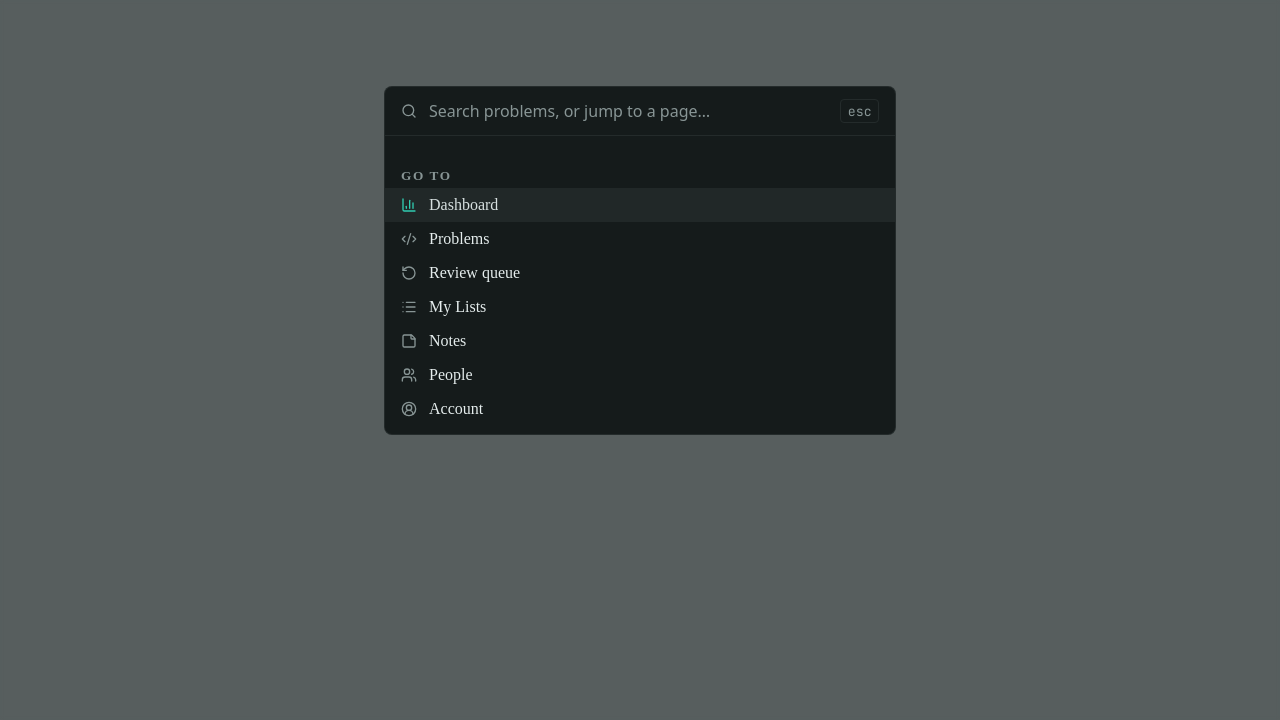
Test case: CommandPaletteDialog › matches problems on title substring
This screenshot has width=1280, height=720.
Type "islands" into the dropdown at [629, 111], box [429,100,828,122]
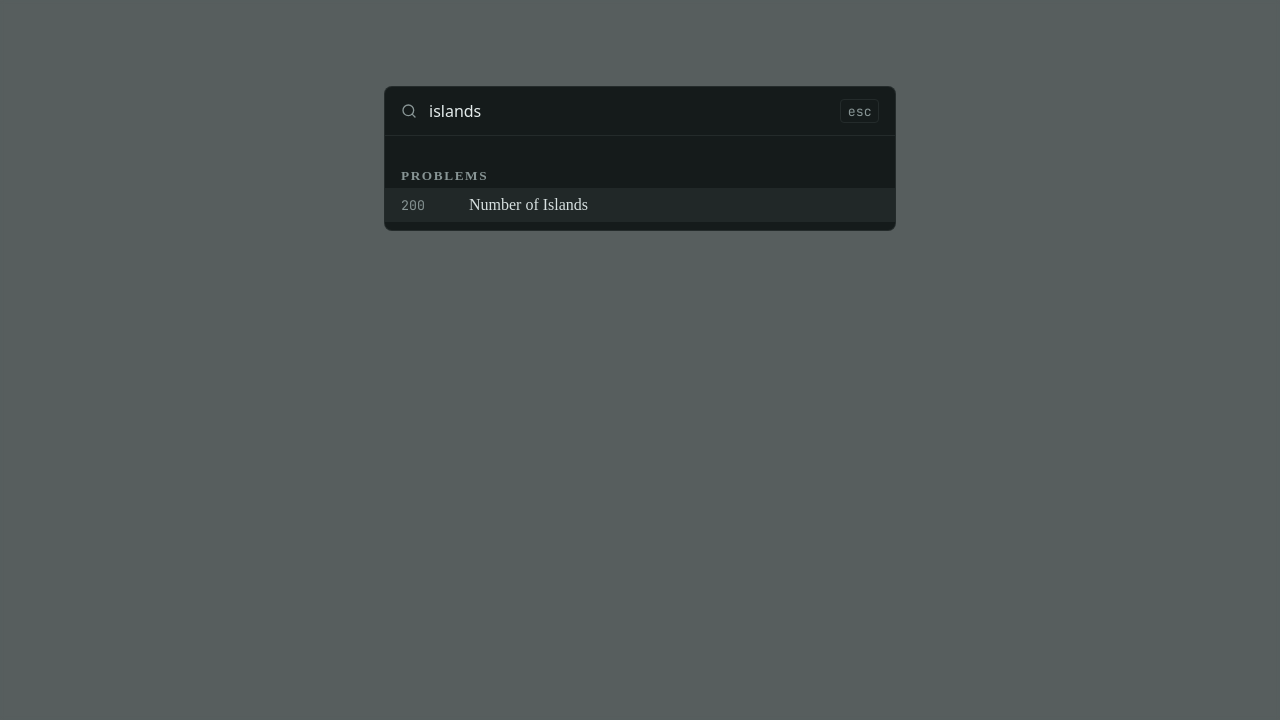
Expected: the text "Number of Islands" is shown, [469,196,588,213]
